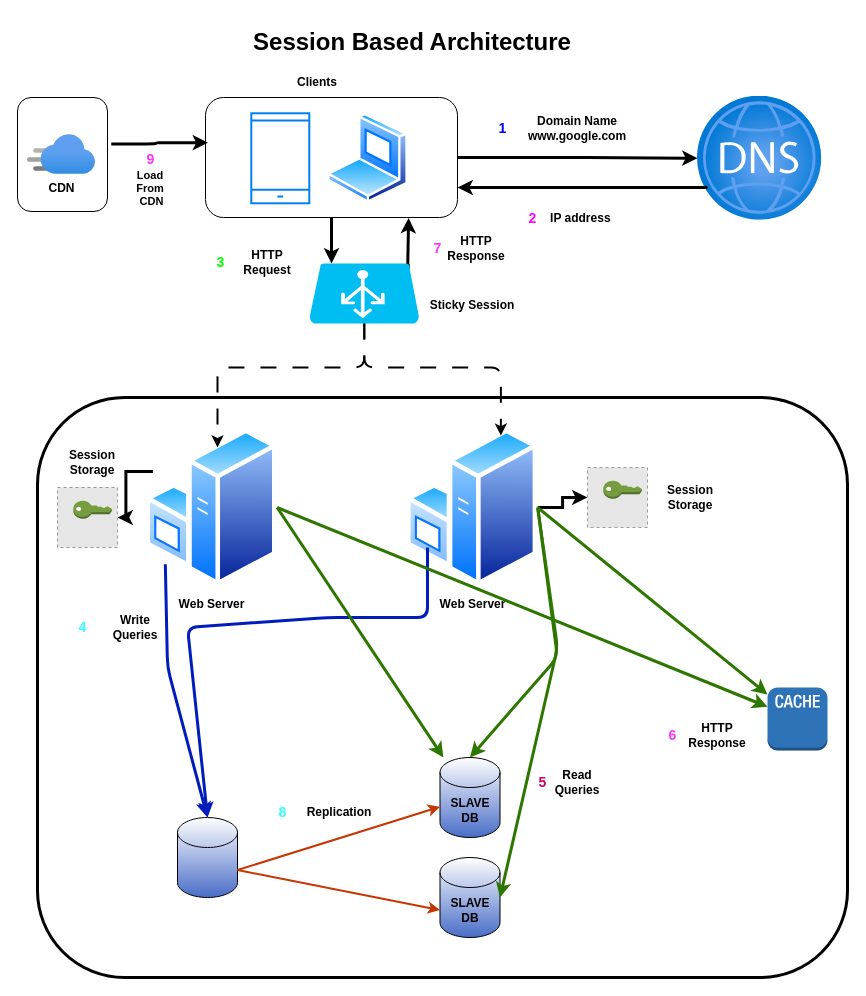
The diagram is 866 pixels wide and 996 high, and some of its shapes have lost their labels. Grey dashed boxes stand in for pictures. The centre of each missing label's shape, as x and y in pixels:
"Cache" goes at pixel 797 718.
"Load Balancer" goes at pixel 364 293.
"MASTER DB" goes at pixel 207 857.
